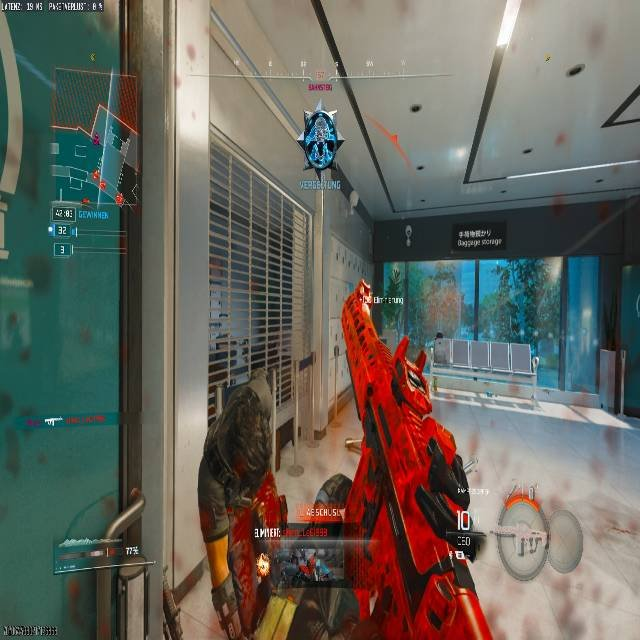player: (197, 357, 279, 639), (299, 103, 343, 172)
